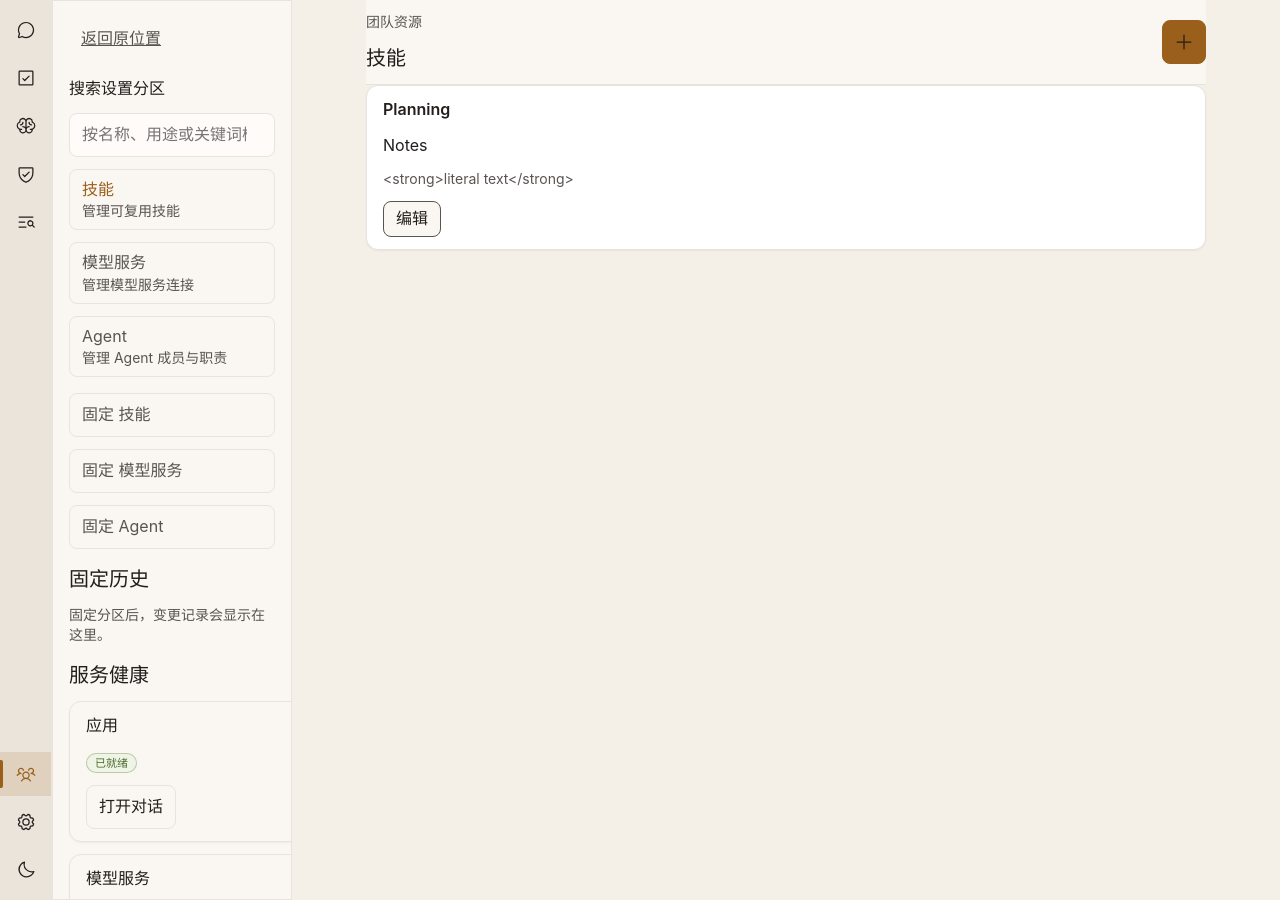
Scenario: Skill panel › edits with full replacement, pure-text rendering and success focus
Expected: the text "<strong>literal text</strong>" is shown, [383,170,574,187]
Step 1. Click the button with aria-label "编辑 Planning" → (412, 219), box [383,201,441,237]
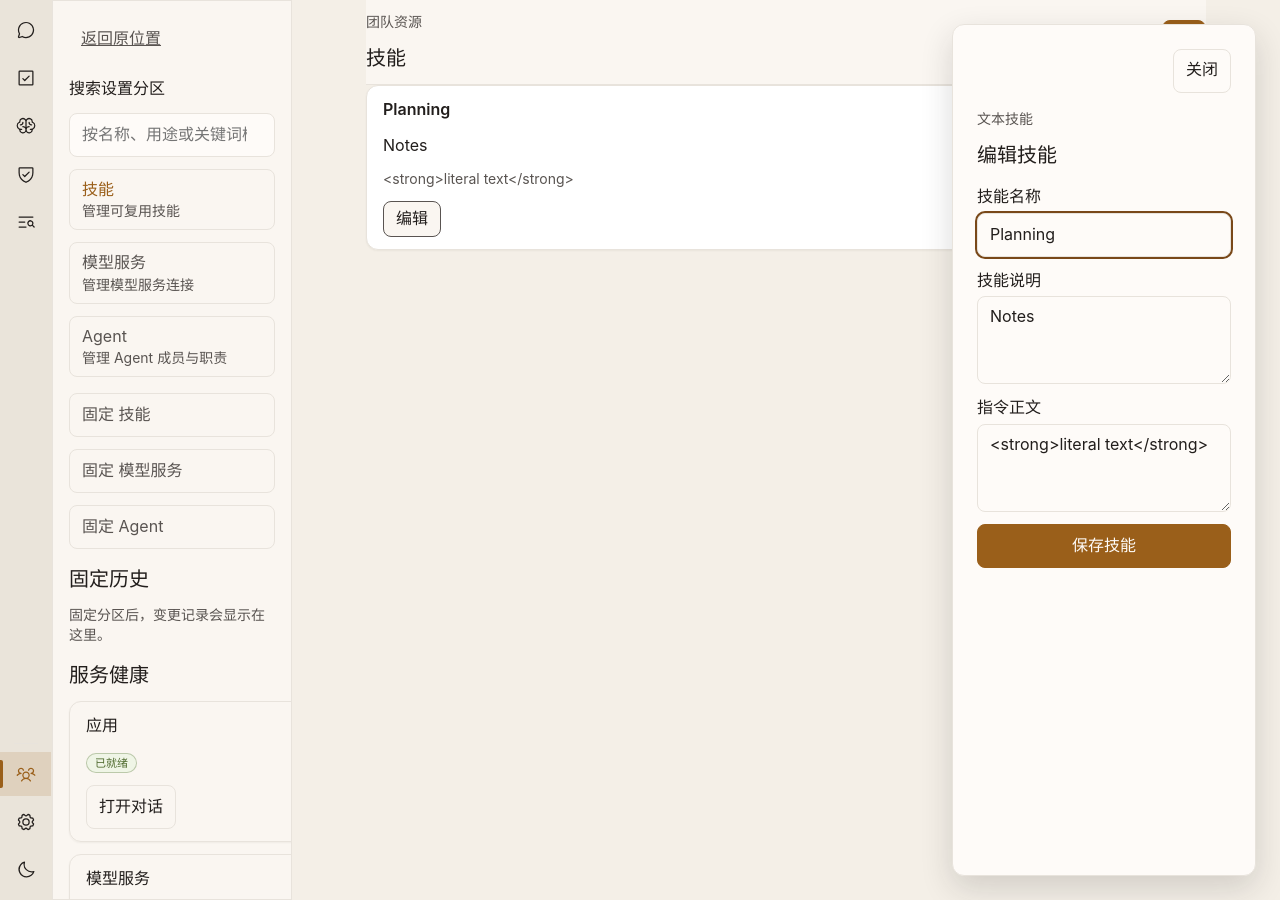
Expected: the field labelled "技能名称" holds "Planning"
Expected: the text box labelled "技能说明" holds "Notes", [977,296,1231,384]
Expected: the text box labelled "指令正文" holds "<strong>literal text</strong>", [977,424,1231,512]
Step 2. Replace the text in the field labelled "技能名称" with "Reviewer" → (1104, 234), box [977,212,1231,256]
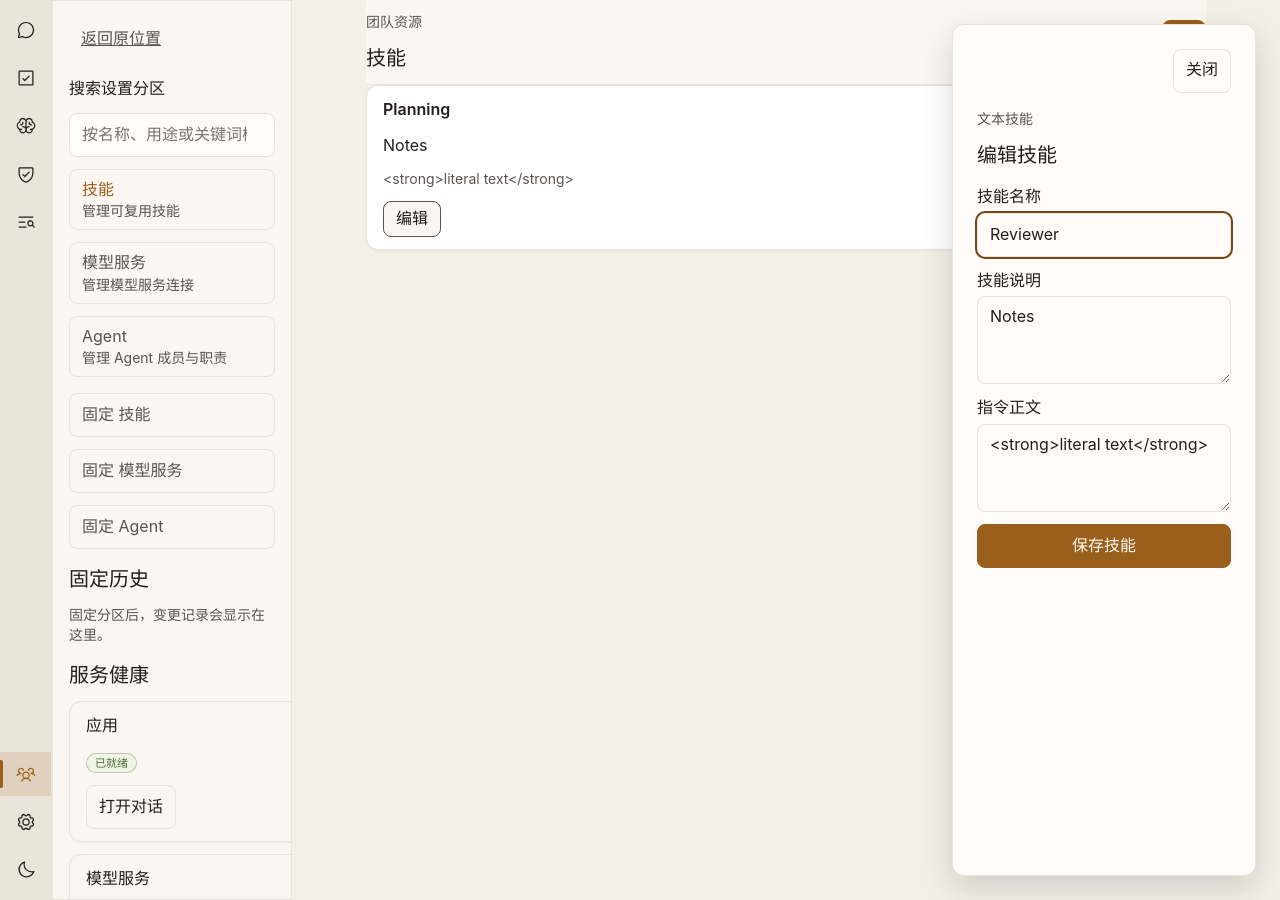
Step 3. Replace the text in the text box labelled "技能说明" with "Updated" → (1104, 340), box [977,296,1231,384]
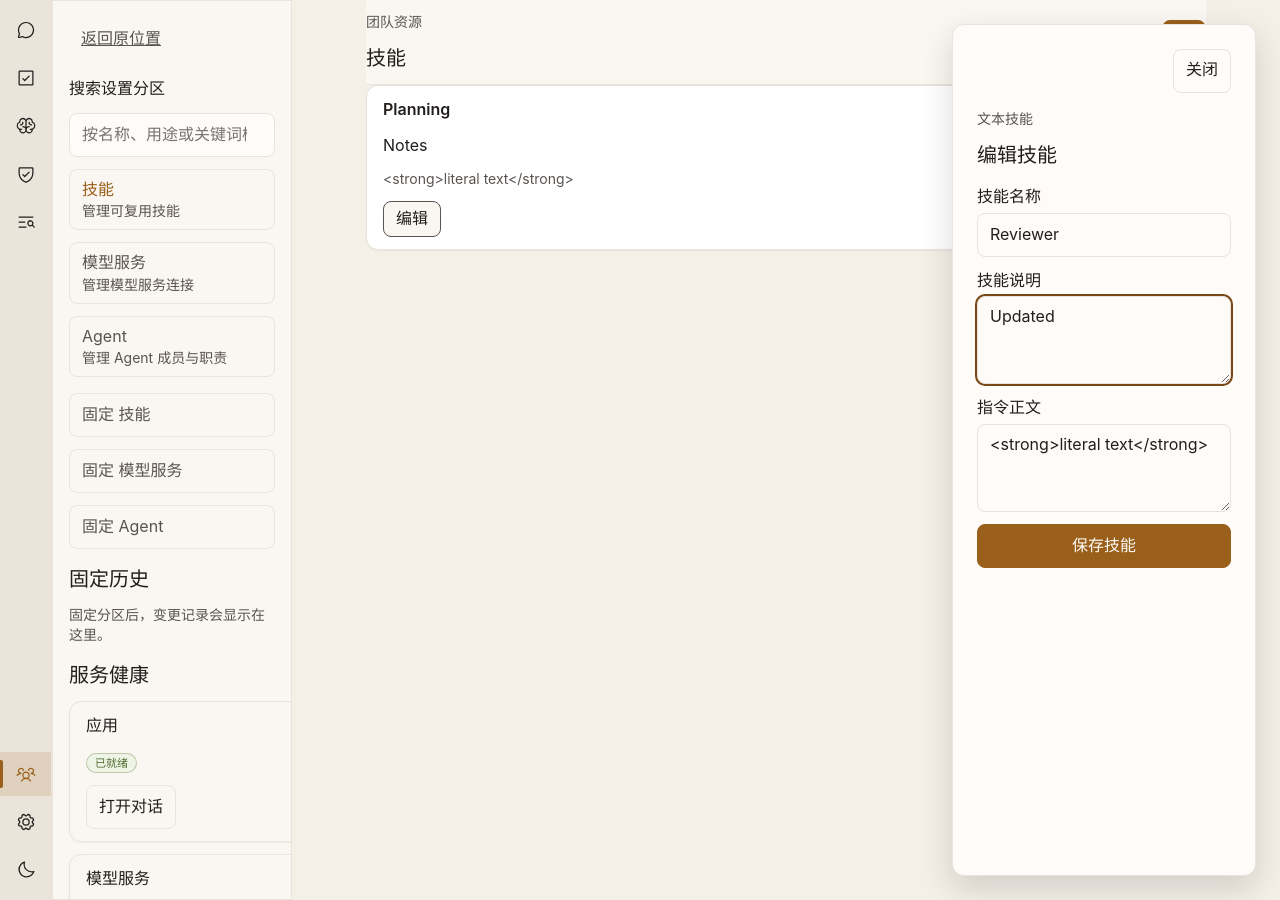
Step 4. Replace the text in the text box labelled "指令正文" with "<em>still text</em>" → (1104, 468), box [977,424,1231,512]
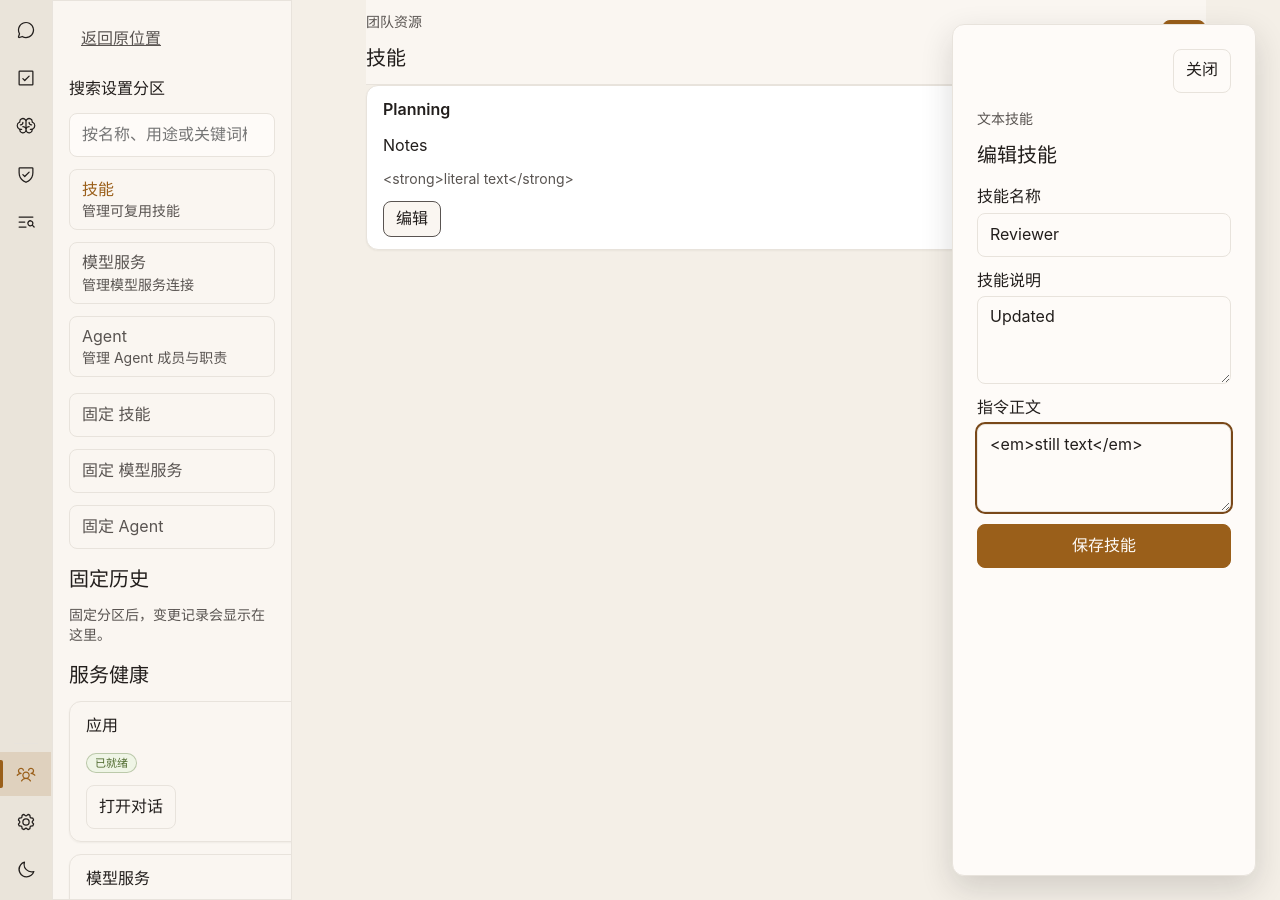
Step 5. Click the button "保存技能" → (1104, 546), box [977,524,1231,568]
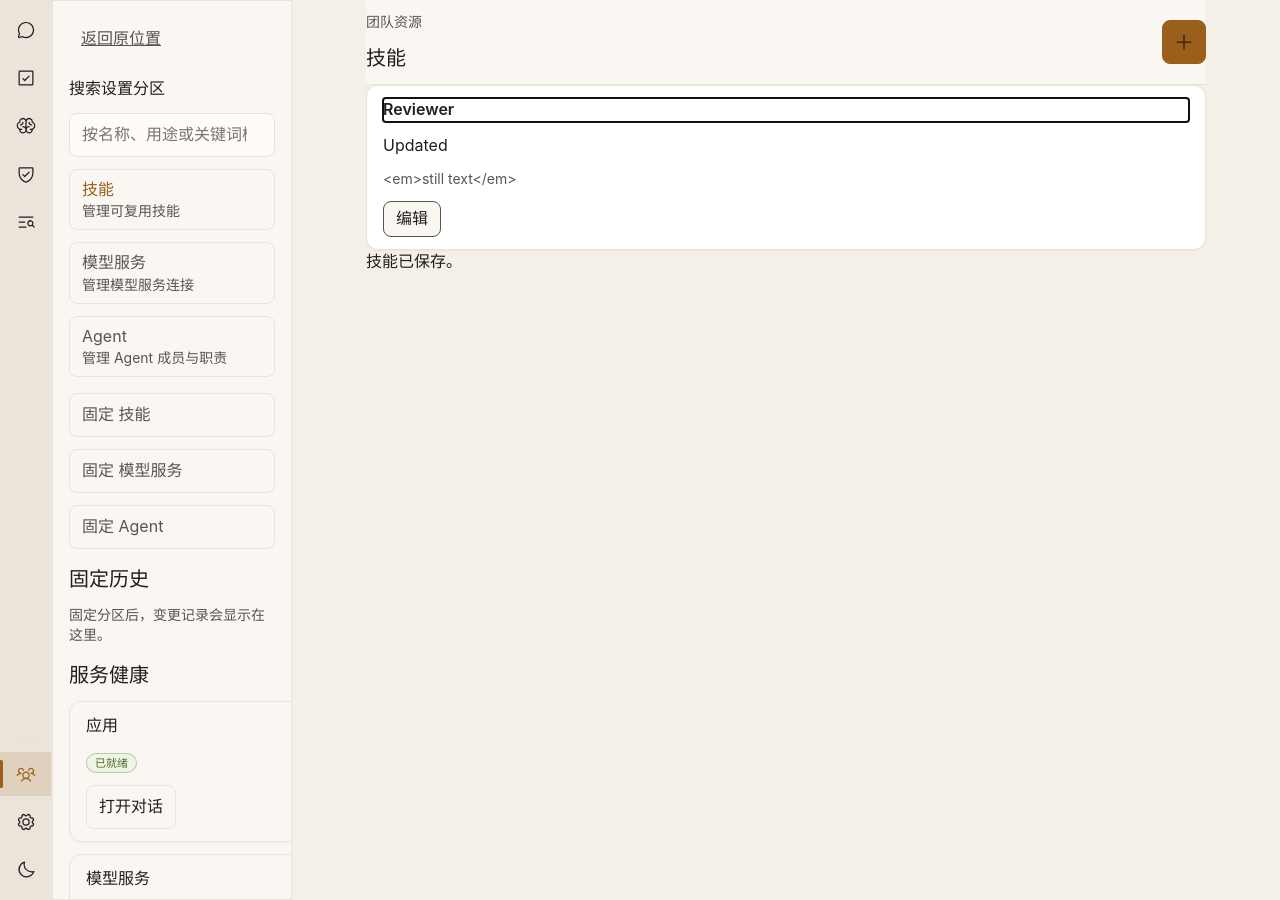
Expected: the message reads "技能已保存。", [366,251,462,271]
Expected: the text "<em>still text</em>" is shown, [383,170,516,187]
